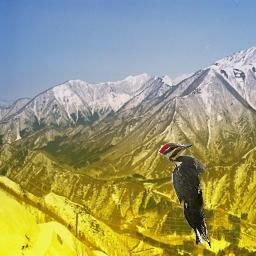Woodpecker: (158, 142, 212, 249)
